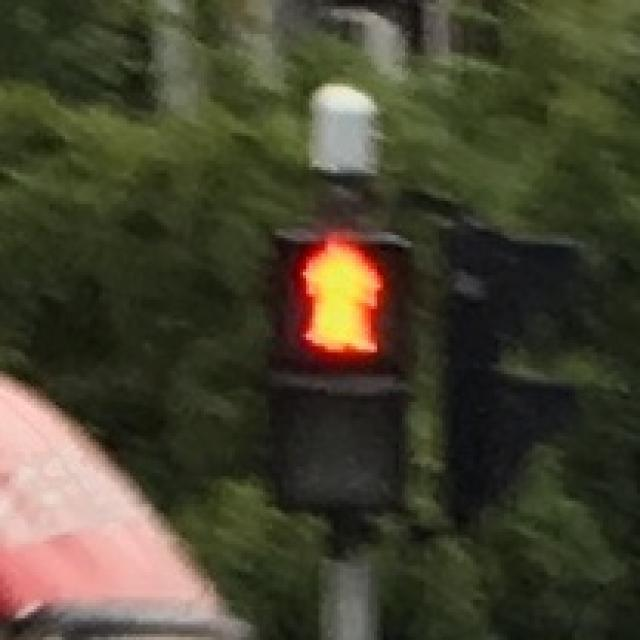red-crossing: (290, 232, 392, 359)
